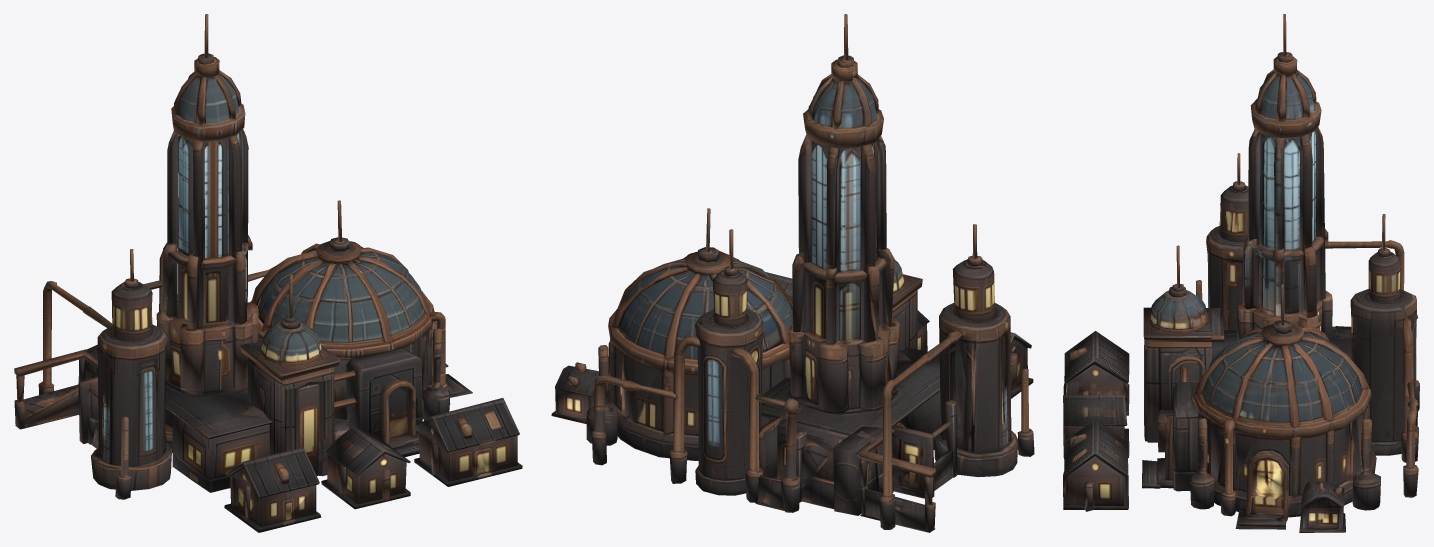
File: great-city.glb
3 renders of one model, left to right at view 1: azimuth 30°, elevation 25°; view 2: azimuth 150°, elevation 25°; view 3: azimuth 270°, elevation 25°, orthographic. The views are drawn at different scales.
Bounding box in the file's own units: 0.9668 × 1 × 0.8054.
Materials: 1 (1 with a texture image).
